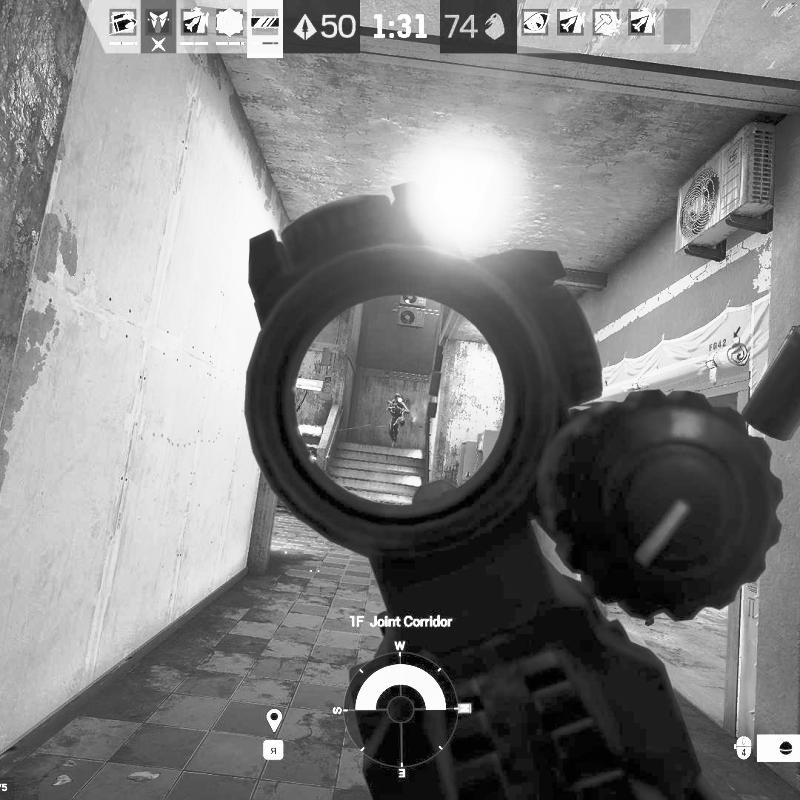Character: (387, 392, 409, 446)
Head: (395, 392, 401, 402)
